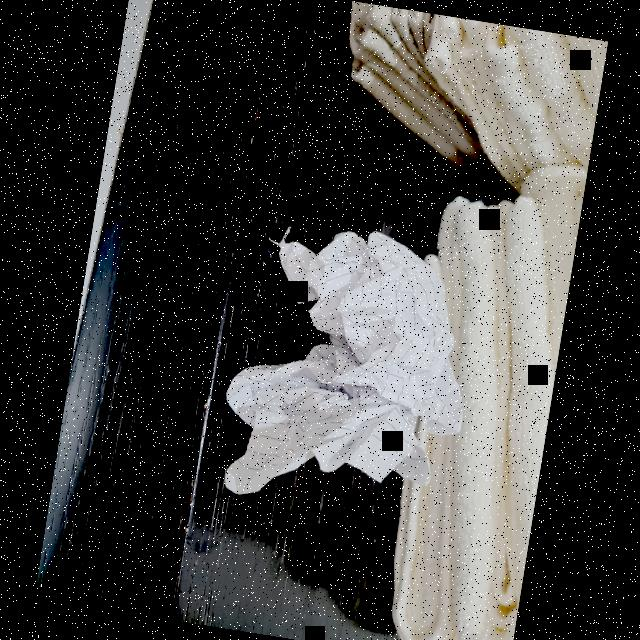scrap_paper: (212, 218, 486, 528)
